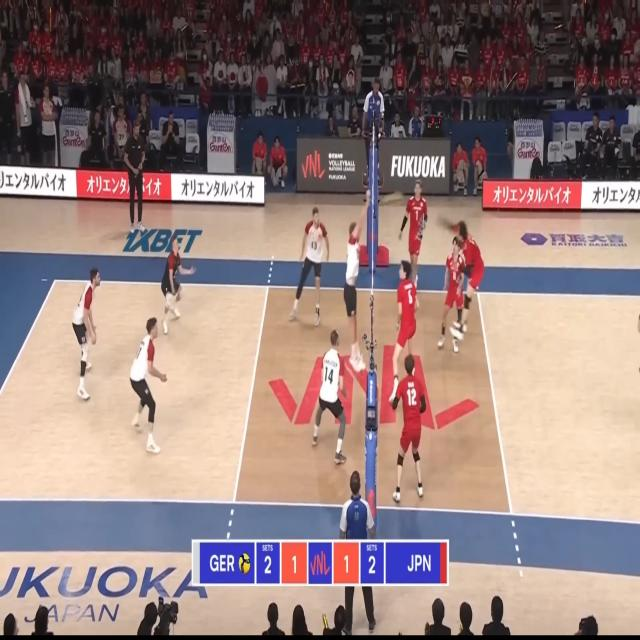ball: (384, 190, 403, 202)
